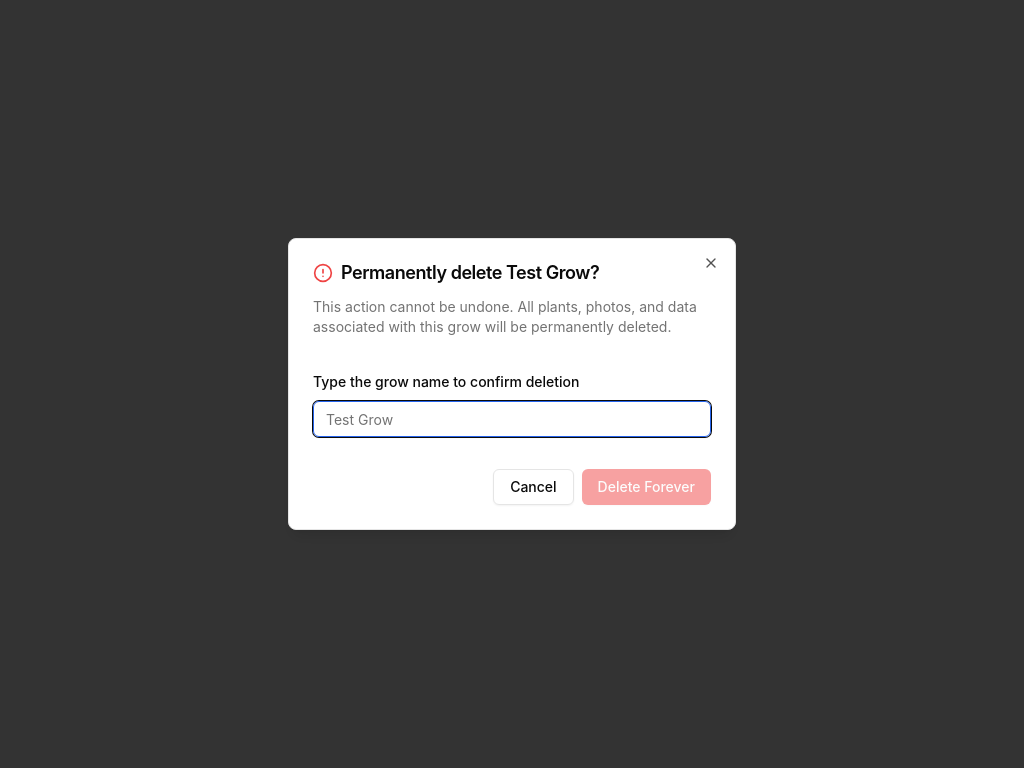
Test: DeleteGrowDialog › shows message when name does not match
Type "Wrong Name" into the field labelled "Type the grow name to confirm deletion". click: (512, 419)
box: [313,401,711,437]
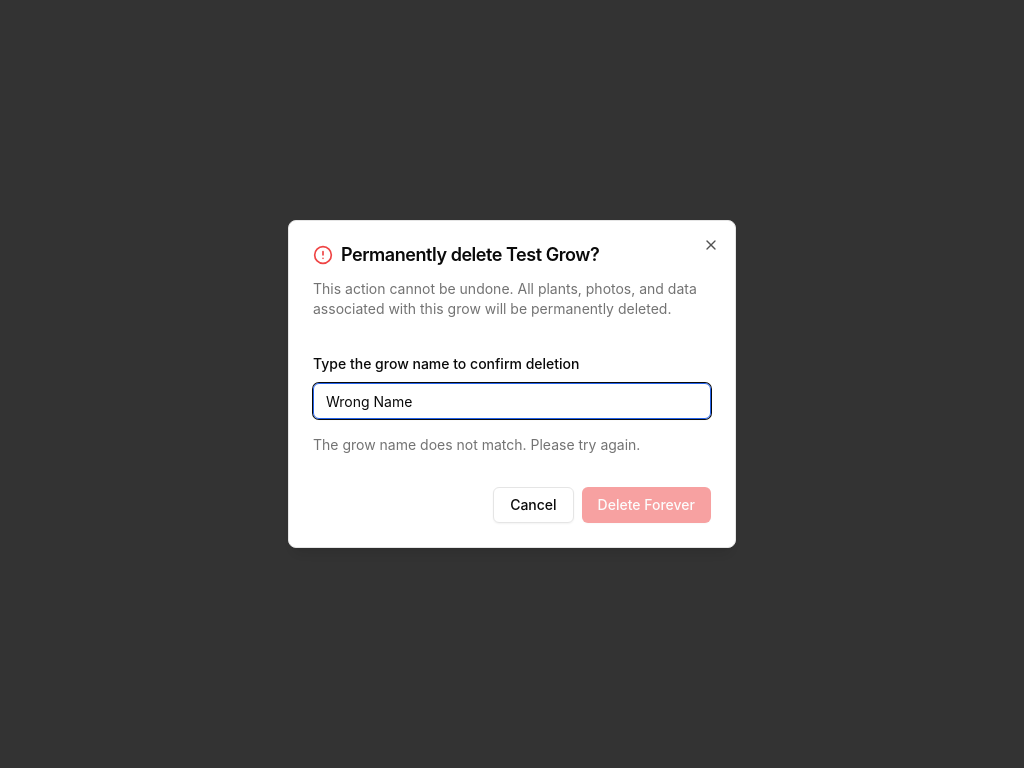
Expected: the text "The grow name does not match. Please try again." is shown, [313,436,640,453]
